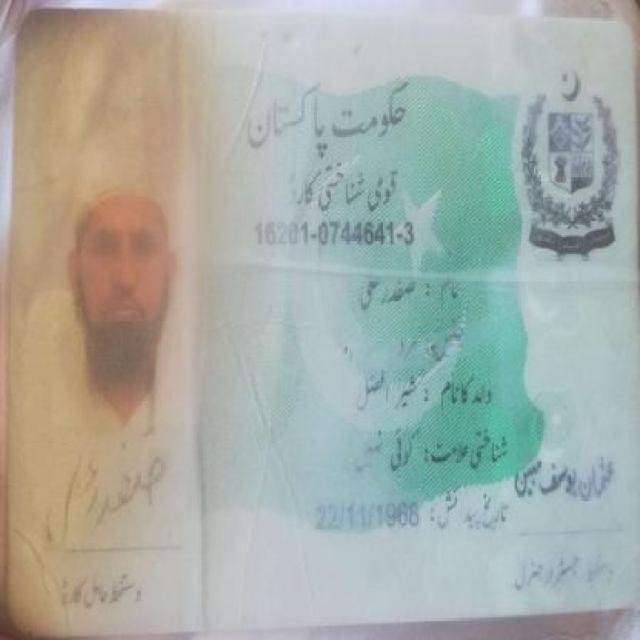Front: (22, 3, 630, 620)
